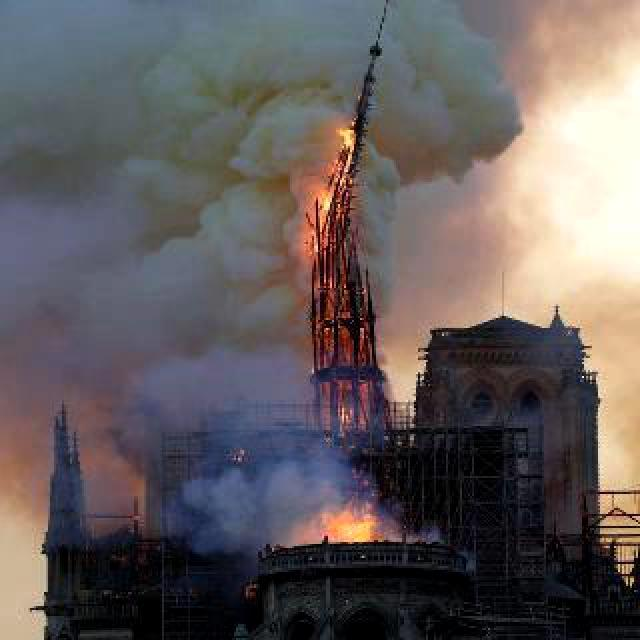fire: (296, 122, 364, 434), (376, 486, 478, 570), (310, 502, 380, 554)
